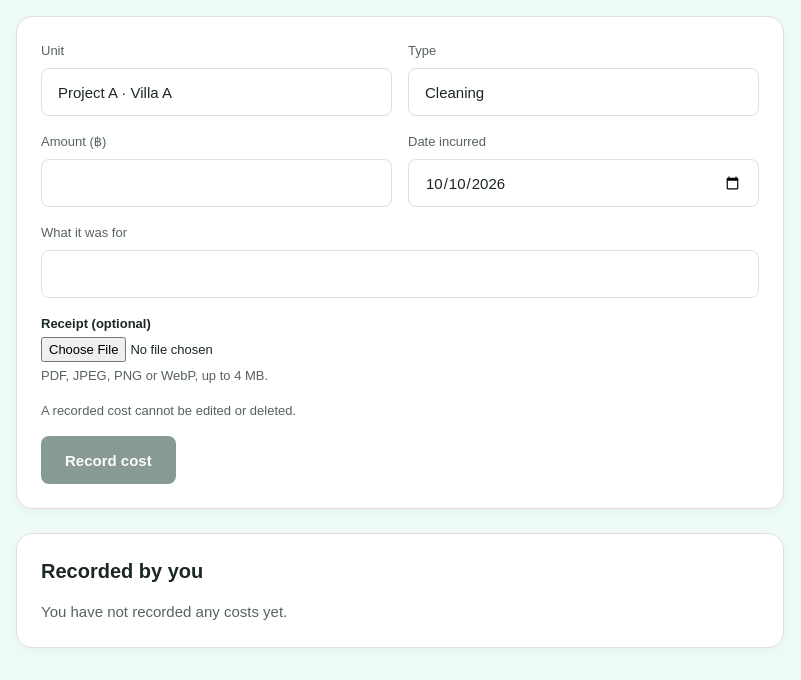
RecordCostClient › says nothing is saved until the server answers, then reports only what the server said
The image size is (801, 680).
Type "1250.50" into the field labelled "Amount (฿)". click: (216, 183)
box: [41,159,392,207]
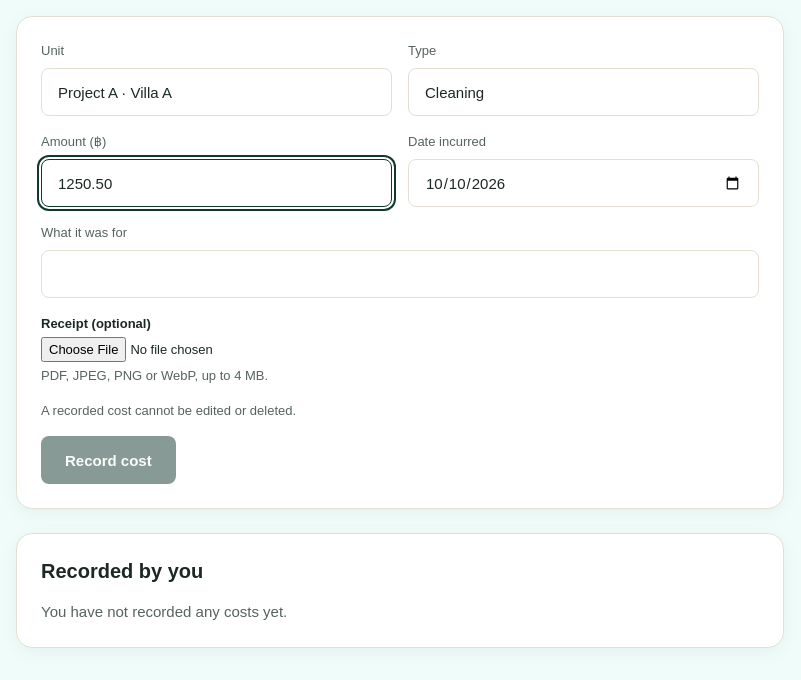
Type "Deep clean" into the field labelled "What it was for". click: (400, 274)
box: [41,250,759,298]
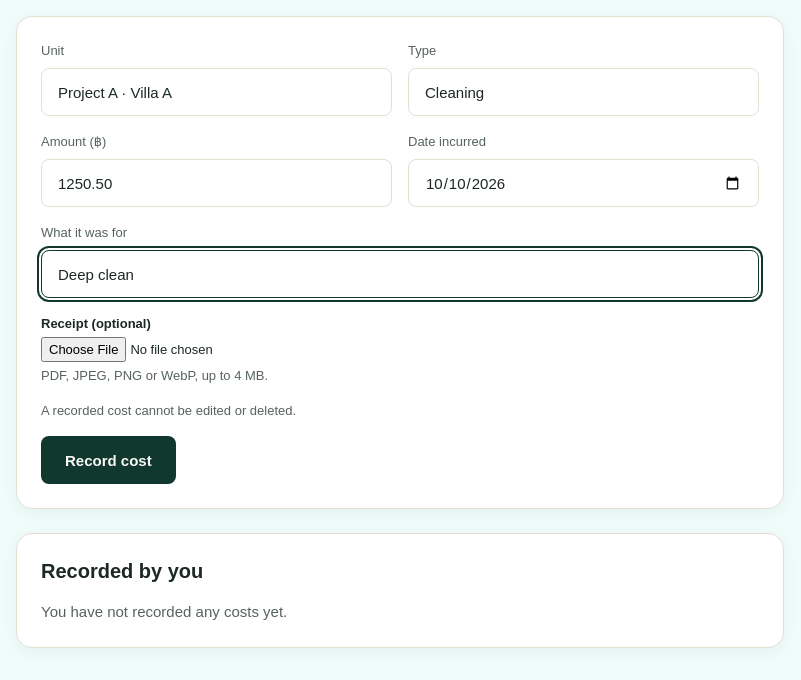
Click the button "Record cost". click: (108, 460)
box: [41,436,176,484]
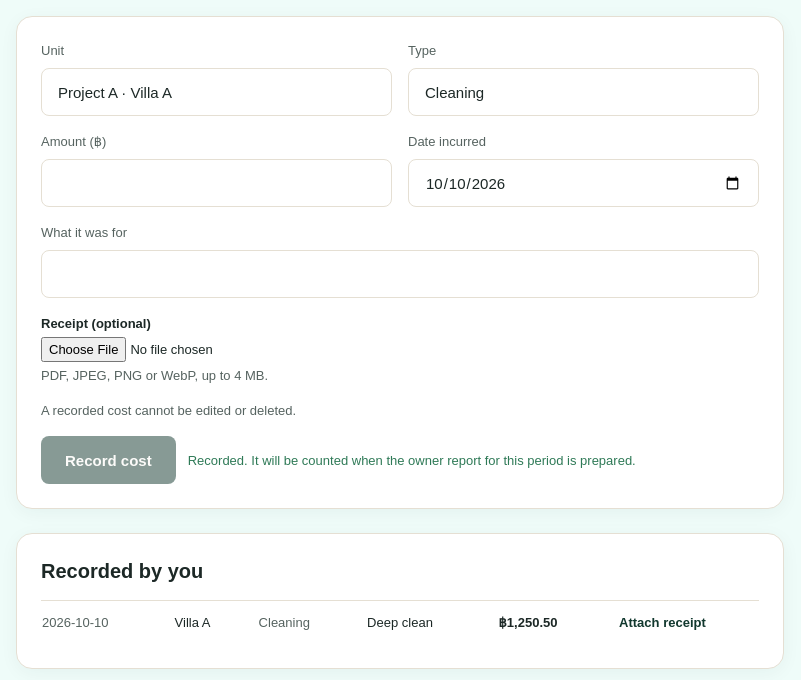
Now the button named "Recording" is disabled, box [41,436,176,484]
Now the message shows "It will be counted when the owner report for this period is prepared.", box [188,452,636,468]
Now the text "Deep clean" is shown, box [366,600,498,644]
